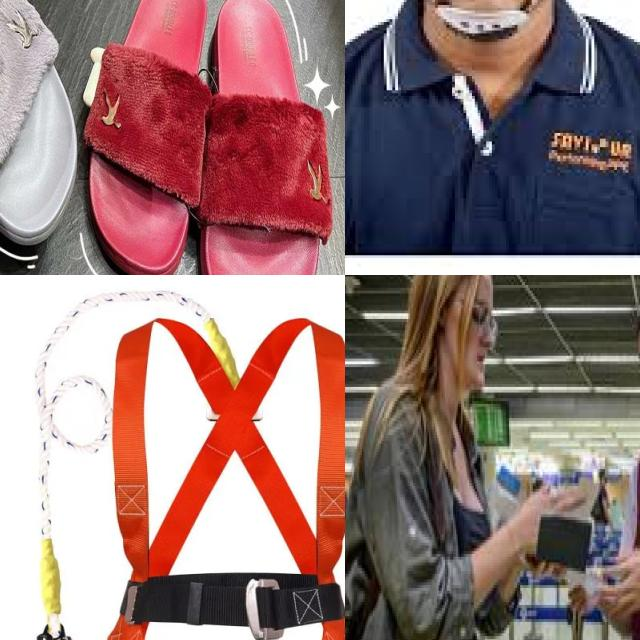Harness: (109, 313, 345, 640)
Sandals: (69, 0, 345, 275), (0, 0, 90, 275)
face_nomask: (445, 282, 495, 390)
glasses: (471, 298, 501, 343)
hand_noglove: (598, 548, 640, 624)
head_nohelmet: (419, 275, 497, 293)
person: (345, 275, 533, 640)
